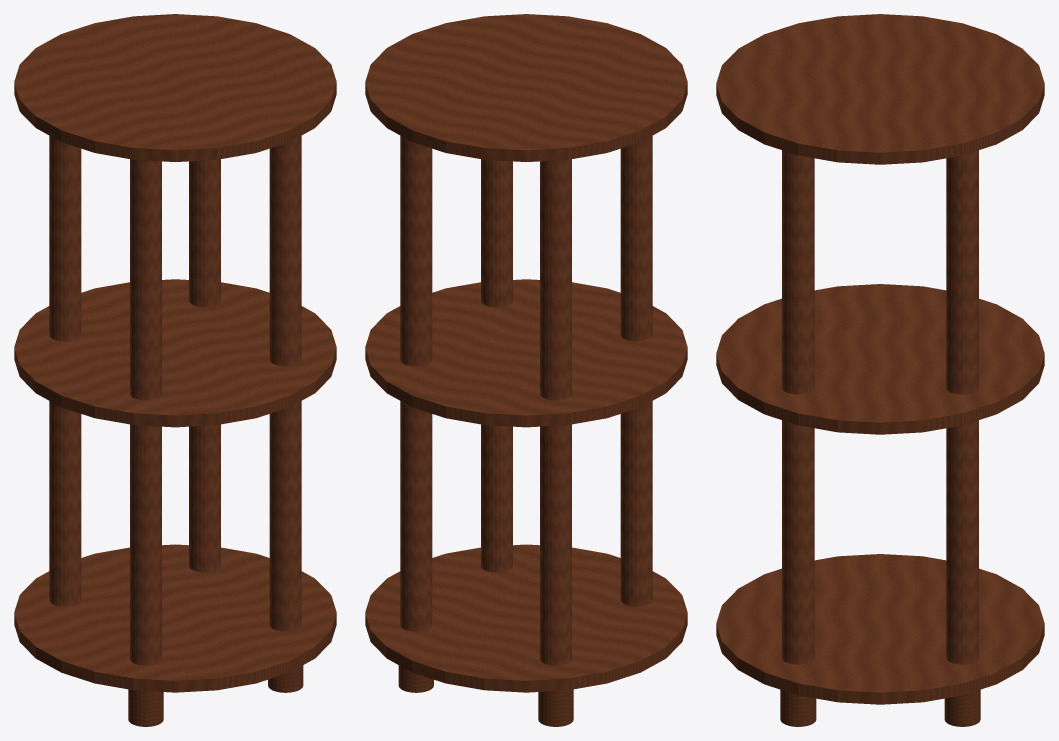
3 views of the same model, side by side, from view 1: azimuth 30°, elevation 25°; view 2: azimuth 150°, elevation 25°; view 3: azimuth 270°, elevation 25° (orthographic).
Parts seen in each view (by area): view 1: 1 top_shelf, 2 middle_shelf, 3 bottom_shelf, 4 upper_spindle_front_left, 8 lower_spindle_front_left, 5 upper_spindle_front_right, 9 lower_spindle_front_right, 6 upper_spindle_back_left, 10 lower_spindle_back_left, 7 upper_spindle_back_right, 11 lower_spindle_back_right, 12 foot_front_left (+1 smaller); view 2: 1 top_shelf, 2 middle_shelf, 3 bottom_shelf, 6 upper_spindle_back_left, 10 lower_spindle_back_left, 7 upper_spindle_back_right, 11 lower_spindle_back_right, 4 upper_spindle_front_left, 8 lower_spindle_front_left, 5 upper_spindle_front_right, 9 lower_spindle_front_right, 14 foot_back_left (+1 smaller); view 3: 1 top_shelf, 2 middle_shelf, 3 bottom_shelf, 5 upper_spindle_front_right, 7 upper_spindle_back_right, 9 lower_spindle_front_right, 11 lower_spindle_back_right, 13 foot_front_right, 15 foot_back_right.
Boxes of the visible parts, left/top/right/bottom form: 1 top_shelf: left=14, top=14, right=336, bottom=161; 2 middle_shelf: left=14, top=279, right=336, bottom=427; 3 bottom_shelf: left=14, top=544, right=336, bottom=692; 4 upper_spindle_front_left: left=130, top=159, right=161, bottom=400; 8 lower_spindle_front_left: left=130, top=424, right=161, bottom=665; 5 upper_spindle_front_right: left=269, top=135, right=301, bottom=366; 9 lower_spindle_front_right: left=269, top=401, right=301, bottom=631; 6 upper_spindle_back_left: left=49, top=135, right=81, bottom=341; 10 lower_spindle_back_left: left=49, top=401, right=81, bottom=606; 7 upper_spindle_back_right: left=189, top=159, right=220, bottom=307; 11 lower_spindle_back_right: left=189, top=424, right=220, bottom=572; 12 foot_front_left: left=128, top=689, right=163, bottom=726; 1 top_shelf: left=365, top=14, right=687, bottom=161; 2 middle_shelf: left=365, top=279, right=687, bottom=427; 3 bottom_shelf: left=365, top=544, right=687, bottom=692; 6 upper_spindle_back_left: left=540, top=159, right=571, bottom=400; 10 lower_spindle_back_left: left=540, top=424, right=571, bottom=665; 7 upper_spindle_back_right: left=400, top=135, right=432, bottom=366; 11 lower_spindle_back_right: left=400, top=401, right=432, bottom=631; 4 upper_spindle_front_left: left=620, top=135, right=652, bottom=341; 8 lower_spindle_front_left: left=620, top=401, right=652, bottom=606; 5 upper_spindle_front_right: left=481, top=159, right=512, bottom=307; 9 lower_spindle_front_right: left=481, top=424, right=512, bottom=572; 14 foot_back_left: left=538, top=689, right=573, bottom=726; 1 top_shelf: left=716, top=14, right=1044, bottom=164; 2 middle_shelf: left=716, top=284, right=1044, bottom=434; 3 bottom_shelf: left=716, top=554, right=1044, bottom=704; 5 upper_spindle_front_right: left=782, top=150, right=814, bottom=394; 7 upper_spindle_back_right: left=946, top=150, right=978, bottom=394; 9 lower_spindle_front_right: left=782, top=420, right=814, bottom=664; 11 lower_spindle_back_right: left=946, top=420, right=978, bottom=664; 13 foot_front_right: left=780, top=689, right=816, bottom=726; 15 foot_back_right: left=944, top=689, right=980, bottom=726.
Bounding box in the file's own units: 0.495 × 1 × 0.495.
2 materials, 2 textured.
